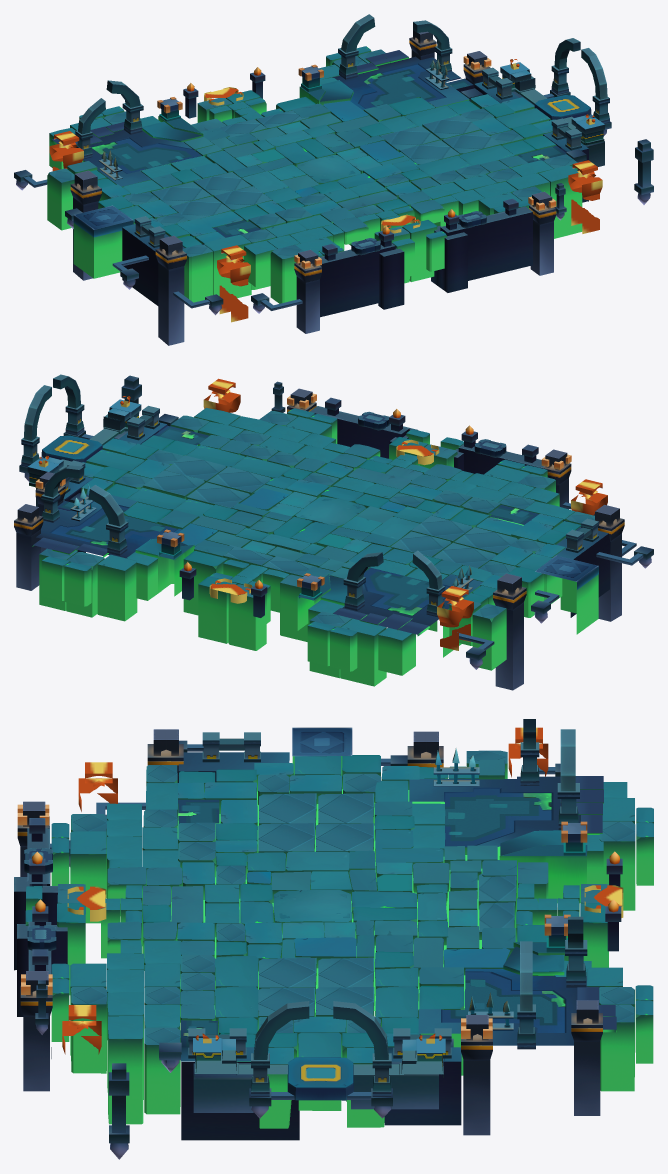
The model's file is Ground.fbx.
The picture shows the model from 3 angles, top to bottom: view 1: azimuth 30°, elevation 25°; view 2: azimuth 150°, elevation 25°; view 3: azimuth 270°, elevation 25°; orthographic projection. The views are drawn at different scales.
Visible parts, largest first — view 1: an01, an02, stone01; view 2: an01, an02; view 3: an01, an02, stone01.
Part boxes in pixels (left/top/right/bottom): an01: left=14, top=14, right=611, bottom=345; an02: left=49, top=59, right=602, bottom=322; stone01: left=634, top=139, right=653, bottom=204; an01: left=14, top=374, right=653, bottom=690; an02: left=38, top=378, right=607, bottom=650; an01: left=14, top=719, right=653, bottom=1140; an02: left=62, top=727, right=623, bottom=1054; stone01: left=108, top=1063, right=129, bottom=1159.
Bounding box in the file's own units: 6.93 × 1.85 × 5.07.
